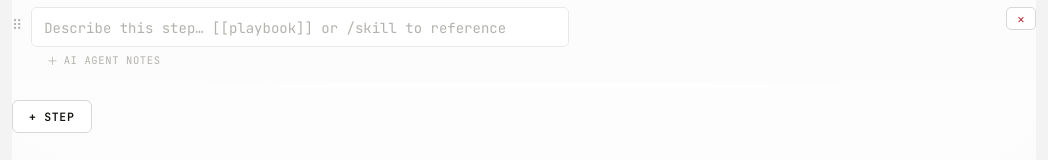
StepList › opens a typeahead when typing [ [ and filters by query
Type "do [ [ [ [oth" into the text box with placeholder "Describe this step… [ [playbook]] or /skill to reference". click: (300, 27)
box: [31,7,569,47]
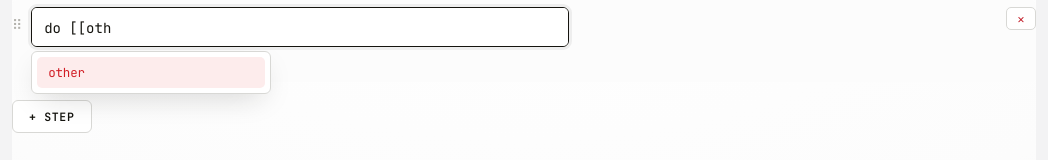
Now the option "other" is shown, box [37,57,265,88]
Type "zzz" into the text box with placeholder "Describe this step… [ [playbook]] or /skill to reference". click: (300, 27)
box: [31,7,569,47]
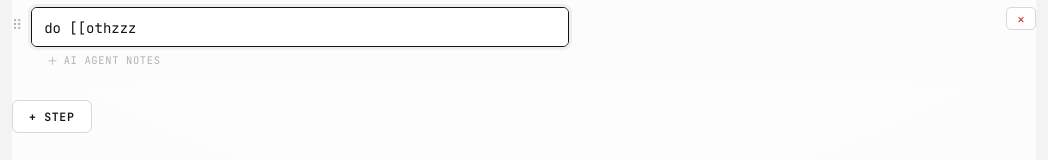
Now the option is gone
